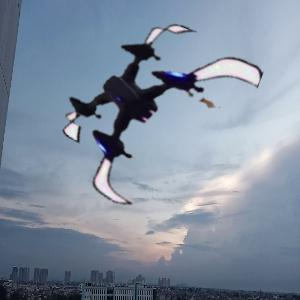drone: (46, 14, 244, 212)
